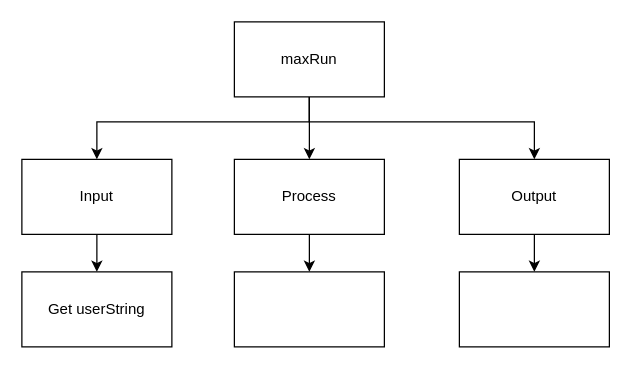
Some shapes in this 631 by 369 pixel diagram are drawn without their labels. The shapes that lost their labels are listed below. From the top down, each one's centre as x and y in pixels, then its label:
the point at 308,309: Calculate maxRun
the point at 533,309: Return maxRun
